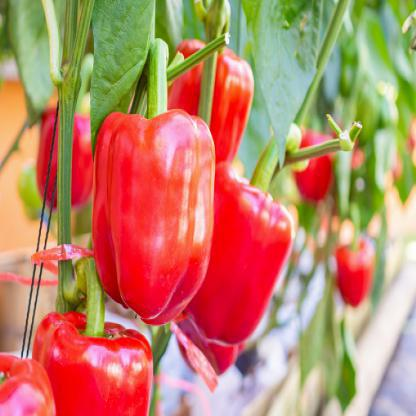capsicum: (74, 24, 232, 330)
